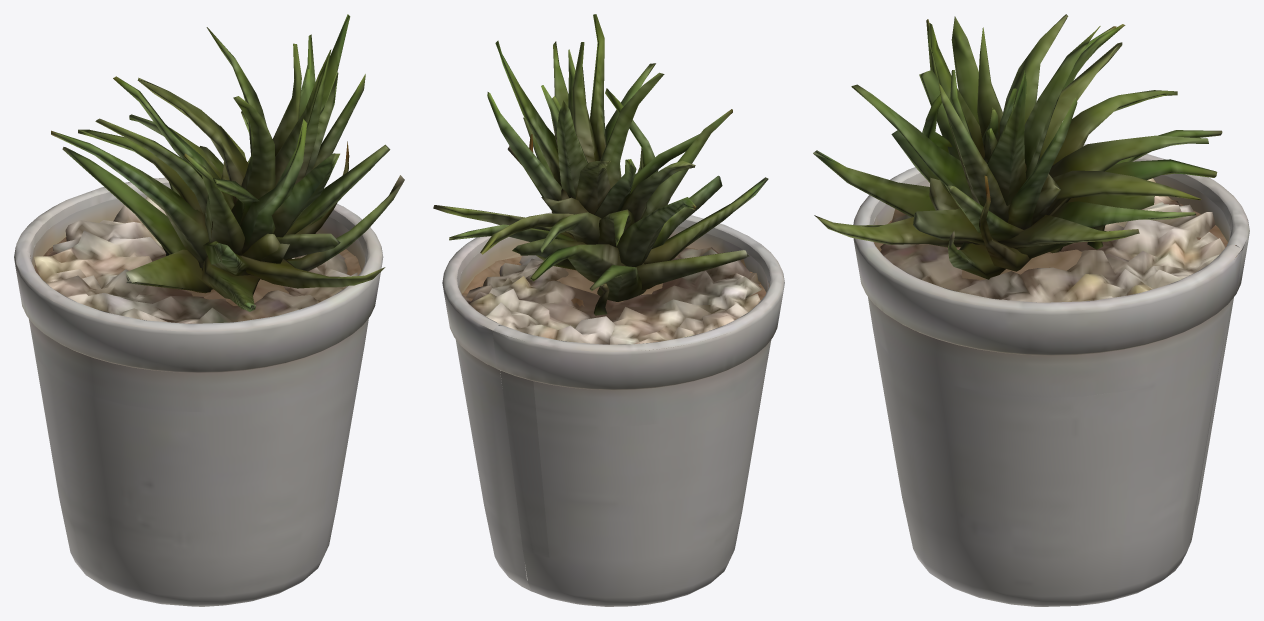
File: plant_aloe.glb
3 views of the same model, side by side, from view 1: azimuth 30°, elevation 25°; view 2: azimuth 150°, elevation 25°; view 3: azimuth 270°, elevation 25° (orthographic). The views are drawn at different scales.
Visible parts, largest first — view 1: plant_aloe; view 2: plant_aloe; view 3: plant_aloe.
Boxes of the visible parts, box(x1,y1,x2,y2) form: plant_aloe: box(14, 14, 404, 606); plant_aloe: box(433, 14, 784, 606); plant_aloe: box(813, 14, 1249, 606).
Size of the model in its own units: 0.168 by 0.2673 by 0.1846.
Materials: 1 (1 with a texture image).
